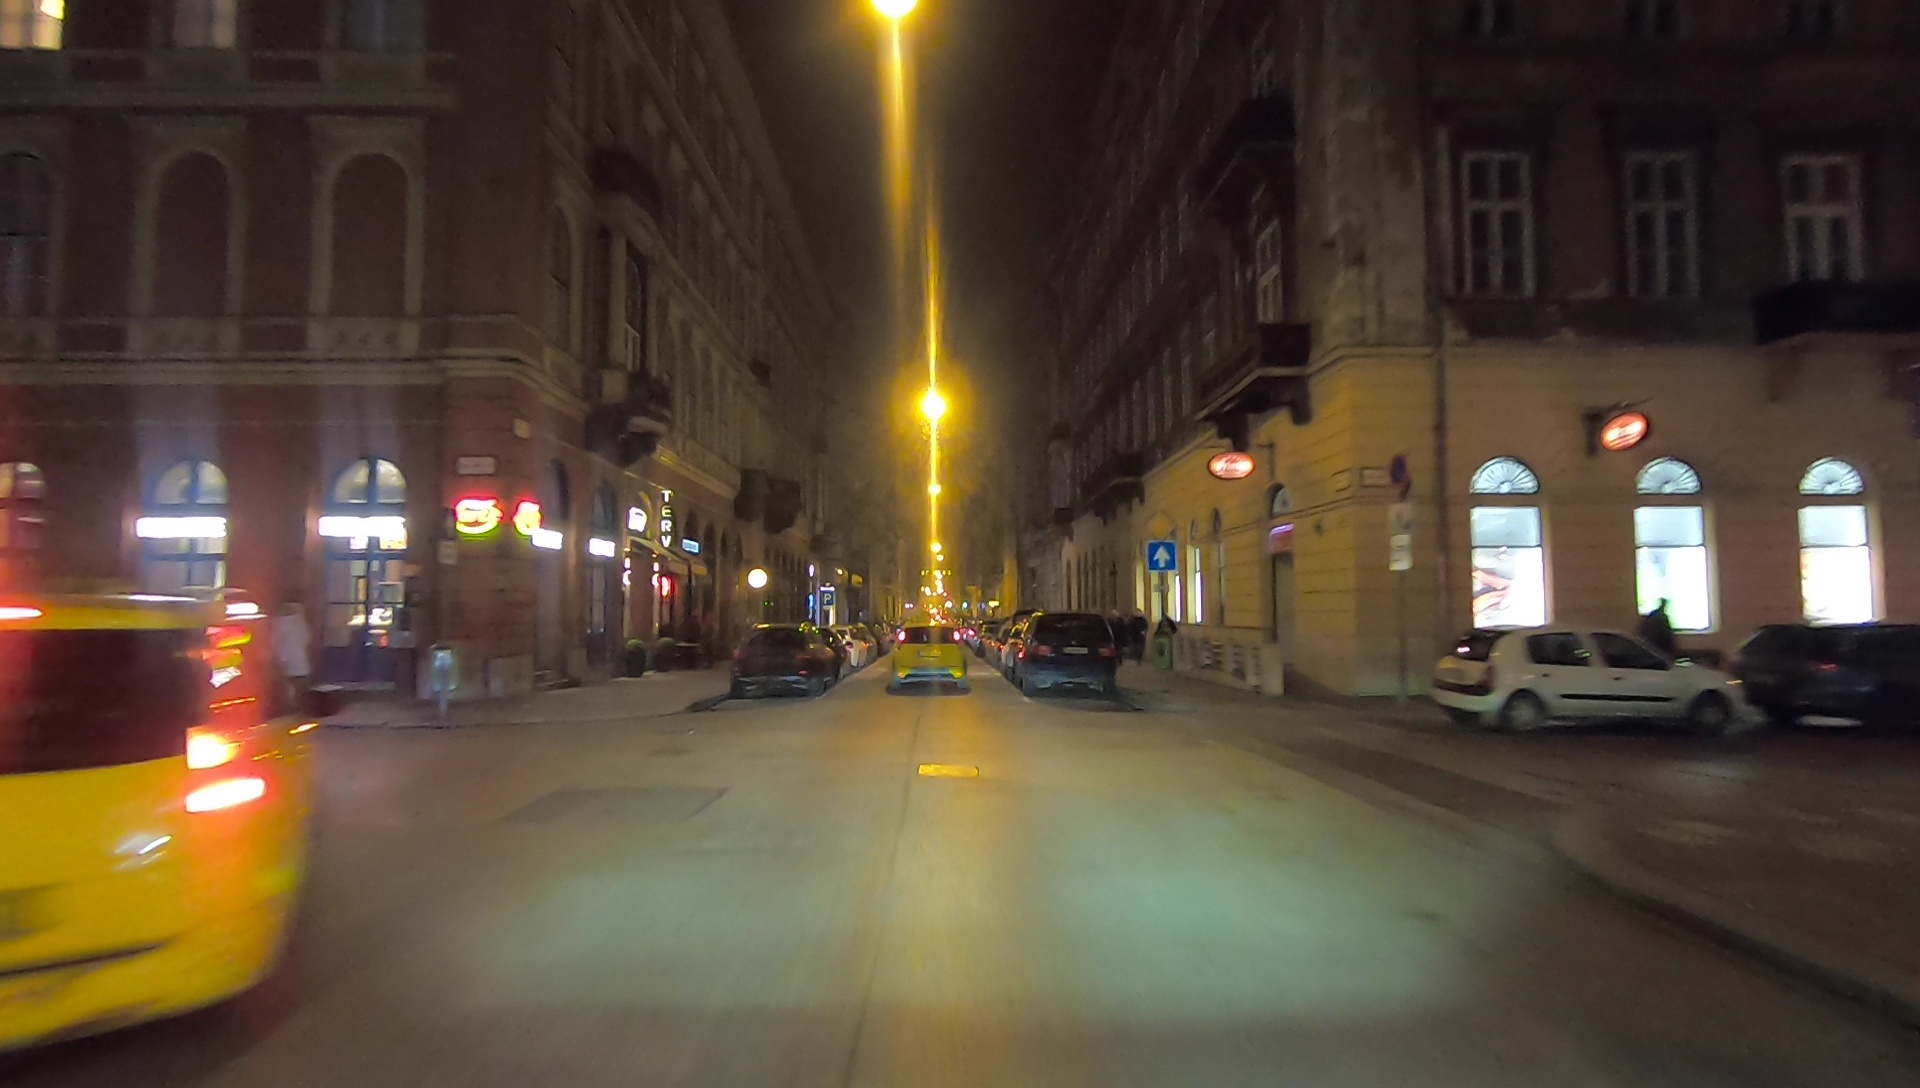person: (273, 602, 321, 726)
